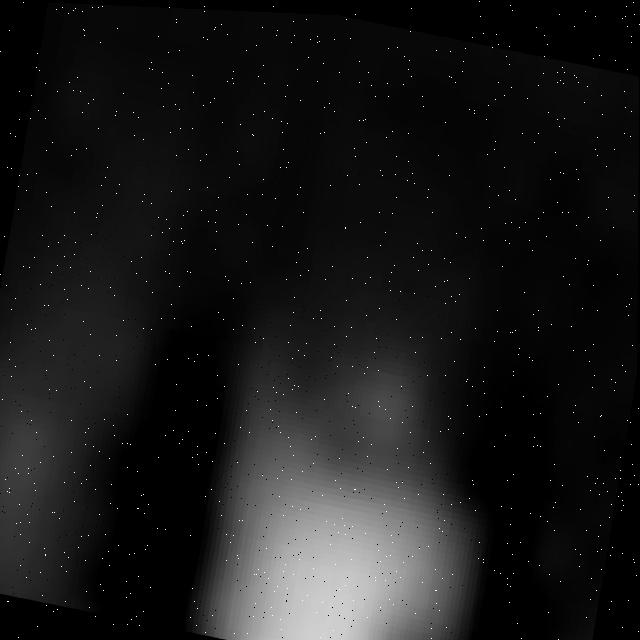person: (183, 290, 569, 640), (1, 195, 165, 617)
